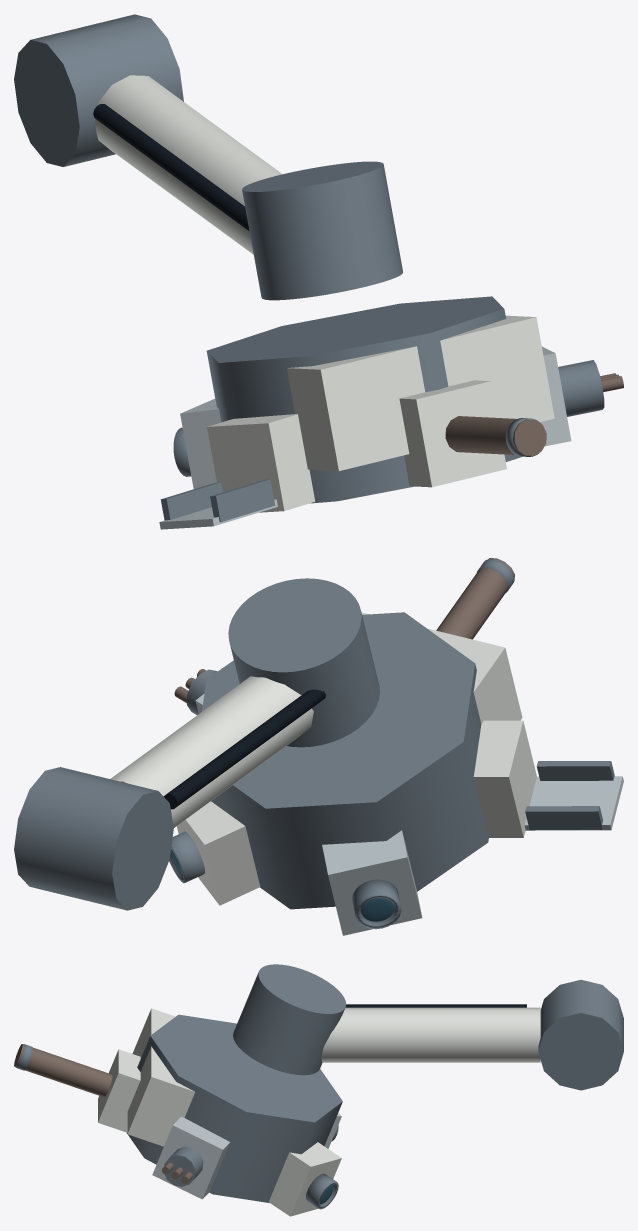
The model's file is curiosity_arm.shoulder_azimuth.shoulder_elevation.elbow.glb.
3 renders of one model, top to bottom at view 1: azimuth 30°, elevation 25°; view 2: azimuth 150°, elevation 25°; view 3: azimuth 270°, elevation 25°, orthographic. The views are drawn at different scales.
Parts seen in each view (by area): view 1: curiosity_arm.shoulder_azimuth.shoulder_elevation.elbow.fore (×3), curiosity_turret.mesh_Pale_thermal_blanket, curiosity_turret.mesh_Machined_steel, curiosity_arm.shoulder_azimuth.shoulder_elevation.elbow.mesh, curiosity_turret.chimra.mesh_Pale_thermal_blanket, curiosity_turret.drill.mesh_Pale_thermal_blanket, curiosity_turret.drill.mesh_Heat-stained_alloy, curiosity_turret.chimra.mesh_Machined_steel, curiosity_turret.apxs.mesh_Satin_aluminum, curiosity_turret.drt.mesh_Machined_steel, curiosity_turret.drt.mesh_Satin_aluminum, curiosity_turret.chimra.mesh_Satin_aluminum; view 2: curiosity_turret.mesh_Machined_steel, curiosity_arm.shoulder_azimuth.shoulder_elevation.elbow.fore (×3), curiosity_arm.shoulder_azimuth.shoulder_elevation.elbow.mesh, curiosity_turret.chimra.mesh_Pale_thermal_blanket, curiosity_turret.apxs.mesh_Satin_aluminum, curiosity_turret.mahli.mesh_Pale_thermal_blanket, curiosity_turret.mesh_Pale_thermal_blanket, curiosity_turret.chimra.mesh_Machined_steel, curiosity_turret.chimra.mesh_Satin_aluminum, curiosity_turret.drill.mesh_Heat-stained_alloy, curiosity_turret.apxs.aperture.mesh_Machined_steel, curiosity_turret.mahli.aperture.mesh_Machined_steel (+2 smaller); view 3: curiosity_arm.shoulder_azimuth.shoulder_elevation.elbow.fore (×3), curiosity_turret.mesh_Machined_steel, curiosity_arm.shoulder_azimuth.shoulder_elevation.elbow.mesh, curiosity_turret.mesh_Pale_thermal_blanket, curiosity_turret.mahli.mesh_Pale_thermal_blanket, curiosity_turret.drt.mesh_Satin_aluminum, curiosity_turret.drill.mesh_Pale_thermal_blanket, curiosity_turret.drill.mesh_Heat-stained_alloy, curiosity_turret.drt.mesh_Machined_steel, curiosity_turret.mahli.aperture.mesh_Machined_steel.
Boxes of the visible parts, bbox=[...] form: curiosity_arm.shoulder_azimuth.shoulder_elevation.elbow.fore (×3): bbox=[93, 75, 402, 300]; curiosity_turret.mesh_Pale_thermal_blanket: bbox=[287, 315, 554, 471]; curiosity_turret.mesh_Machined_steel: bbox=[206, 296, 522, 503]; curiosity_arm.shoulder_azimuth.shoulder_elevation.elbow.mesh: bbox=[14, 14, 183, 166]; curiosity_turret.chimra.mesh_Pale_thermal_blanket: bbox=[207, 414, 315, 512]; curiosity_turret.drill.mesh_Pale_thermal_blanket: bbox=[399, 380, 506, 487]; curiosity_turret.drill.mesh_Heat-stained_alloy: bbox=[445, 416, 546, 455]; curiosity_turret.chimra.mesh_Machined_steel: bbox=[160, 479, 275, 522]; curiosity_turret.apxs.mesh_Satin_aluminum: bbox=[180, 398, 221, 488]; curiosity_turret.drt.mesh_Machined_steel: bbox=[558, 360, 604, 416]; curiosity_turret.drt.mesh_Satin_aluminum: bbox=[540, 346, 571, 446]; curiosity_turret.chimra.mesh_Satin_aluminum: bbox=[159, 499, 277, 529]; curiosity_turret.mesh_Machined_steel: bbox=[202, 612, 488, 909]; curiosity_arm.shoulder_azimuth.shoulder_elevation.elbow.fore (×3): bbox=[110, 578, 379, 827]; curiosity_arm.shoulder_azimuth.shoulder_elevation.elbow.mesh: bbox=[14, 767, 173, 910]; curiosity_turret.chimra.mesh_Pale_thermal_blanket: bbox=[473, 720, 536, 837]; curiosity_turret.apxs.mesh_Satin_aluminum: bbox=[322, 830, 422, 935]; curiosity_turret.mahli.mesh_Pale_thermal_blanket: bbox=[176, 801, 260, 905]; curiosity_turret.mesh_Pale_thermal_blanket: bbox=[361, 612, 522, 723]; curiosity_turret.chimra.mesh_Machined_steel: bbox=[525, 761, 614, 829]; curiosity_turret.chimra.mesh_Satin_aluminum: bbox=[524, 776, 623, 830]; curiosity_turret.drill.mesh_Heat-stained_alloy: bbox=[436, 558, 514, 639]; curiosity_turret.apxs.aperture.mesh_Machined_steel: bbox=[352, 879, 401, 929]; curiosity_turret.mahli.aperture.mesh_Machined_steel: bbox=[169, 831, 204, 883]; curiosity_arm.shoulder_azimuth.shoulder_elevation.elbow.fore (×3): bbox=[233, 964, 540, 1075]; curiosity_turret.mesh_Machined_steel: bbox=[127, 1014, 342, 1202]; curiosity_arm.shoulder_azimuth.shoulder_elevation.elbow.mesh: bbox=[538, 979, 623, 1090]; curiosity_turret.mesh_Pale_thermal_blanket: bbox=[127, 1008, 194, 1146]; curiosity_turret.mahli.mesh_Pale_thermal_blanket: bbox=[269, 1142, 341, 1216]; curiosity_turret.drt.mesh_Satin_aluminum: bbox=[152, 1117, 230, 1199]; curiosity_turret.drill.mesh_Pale_thermal_blanket: bbox=[98, 1049, 140, 1132]; curiosity_turret.drill.mesh_Heat-stained_alloy: bbox=[14, 1044, 112, 1097]; curiosity_turret.drt.mesh_Machined_steel: bbox=[164, 1146, 203, 1186]; curiosity_turret.mahli.aperture.mesh_Machined_steel: bbox=[306, 1173, 338, 1209].
Bounding box in the file's own units: 0.7668 × 0.5205 × 1.35.
